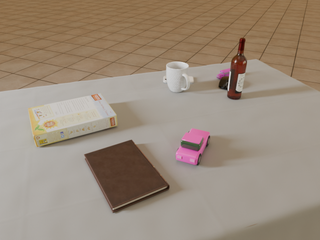book: (84, 140, 169, 213)
bottle: (227, 38, 247, 99)
box: (28, 94, 117, 147)
cup: (166, 62, 190, 92)
mouse: (219, 76, 229, 90)
toy_car: (176, 128, 210, 165), (217, 68, 230, 79)
